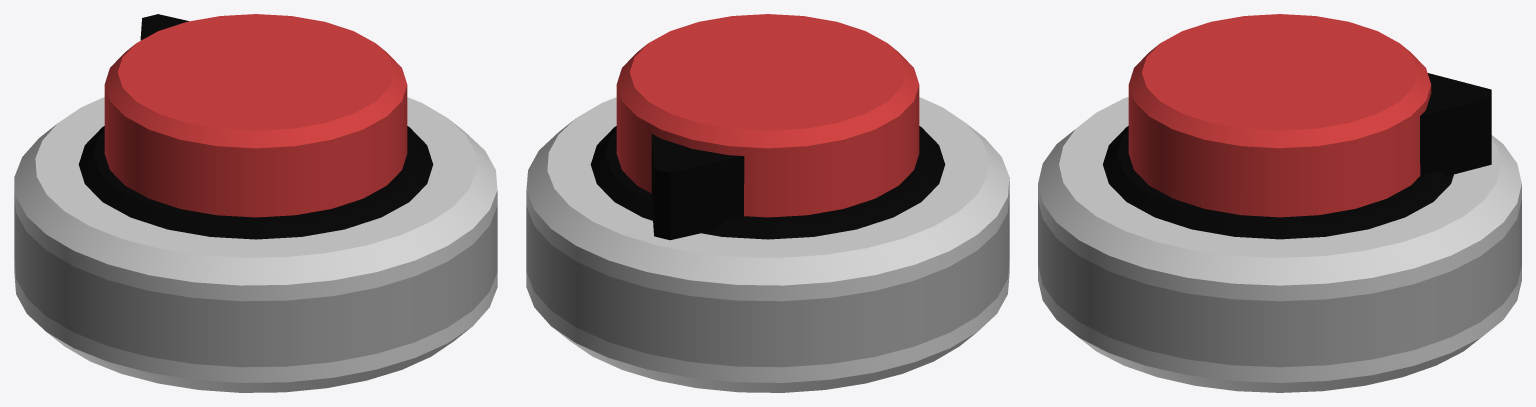
The picture shows the model from 3 angles, left to right: view 1: azimuth 30°, elevation 25°; view 2: azimuth 150°, elevation 25°; view 3: azimuth 270°, elevation 25°; orthographic projection.
Parts seen in each view (by area): view 1: LS_b_003, LS_b_003_button, LS_b_003_th; view 2: LS_b_003, LS_b_003_button, LS_b_003_th; view 3: LS_b_003, LS_b_003_button, LS_b_003_th.
Part boxes in pixels (x1,y1,x2,y2): LS_b_003: (14, 97, 497, 392); LS_b_003_button: (104, 14, 407, 217); LS_b_003_th: (140, 14, 188, 40); LS_b_003: (526, 97, 1009, 392); LS_b_003_button: (616, 14, 919, 217); LS_b_003_th: (651, 134, 744, 240); LS_b_003: (1038, 97, 1521, 392); LS_b_003_button: (1128, 14, 1431, 217); LS_b_003_th: (1420, 73, 1491, 175).
Bounding box in the file's own units: 200 × 104 × 200.
